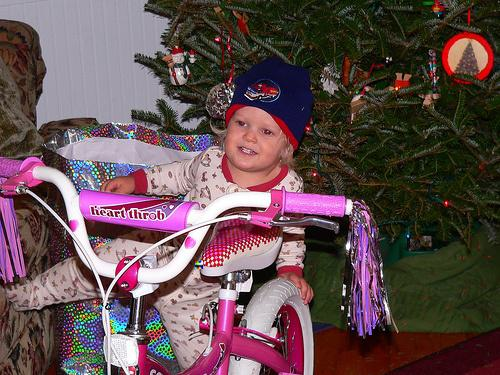car: (1, 156, 398, 375)
person: (5, 60, 316, 375)
